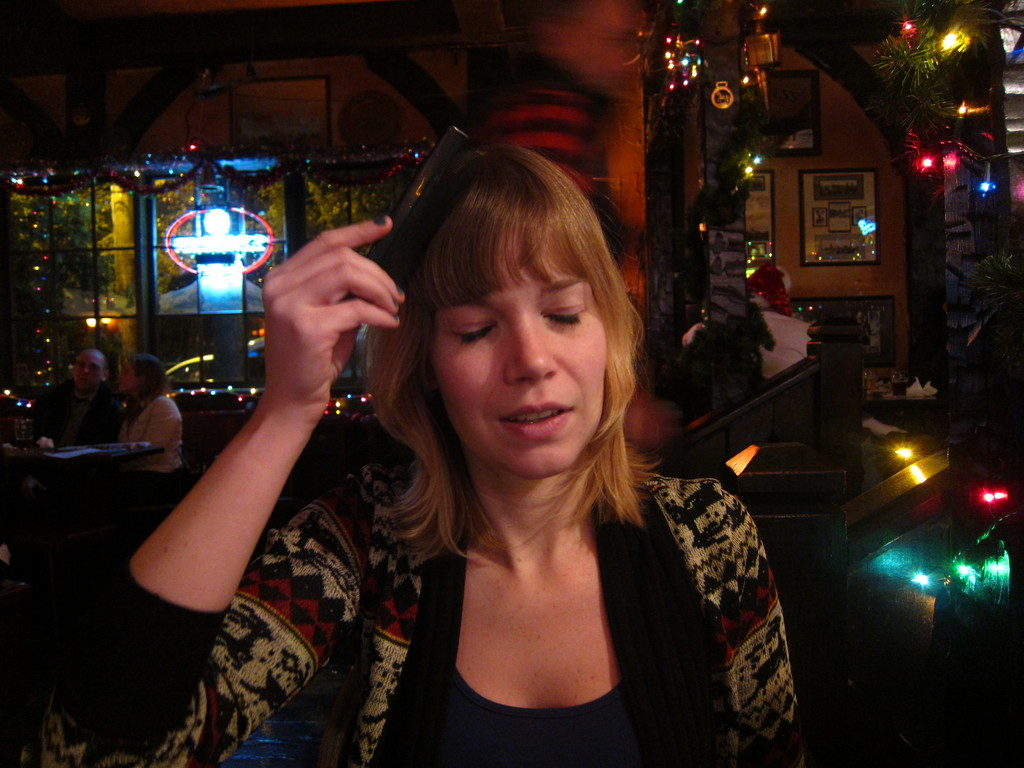Human-face: (435, 236, 607, 481), (74, 356, 102, 396), (116, 362, 131, 389)
